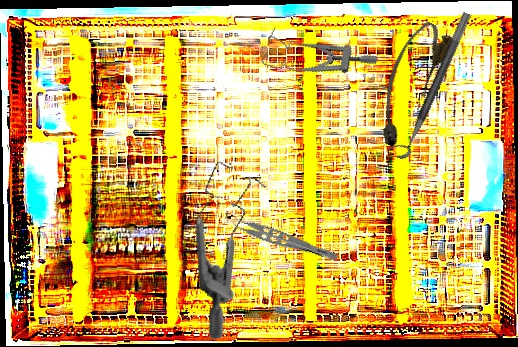Cannula: (360, 16, 458, 151)
Fixation Ring: (385, 6, 473, 162)
Speculum: (143, 147, 316, 342), (258, 17, 380, 102)
Tissue Forceps: (228, 212, 342, 263)
